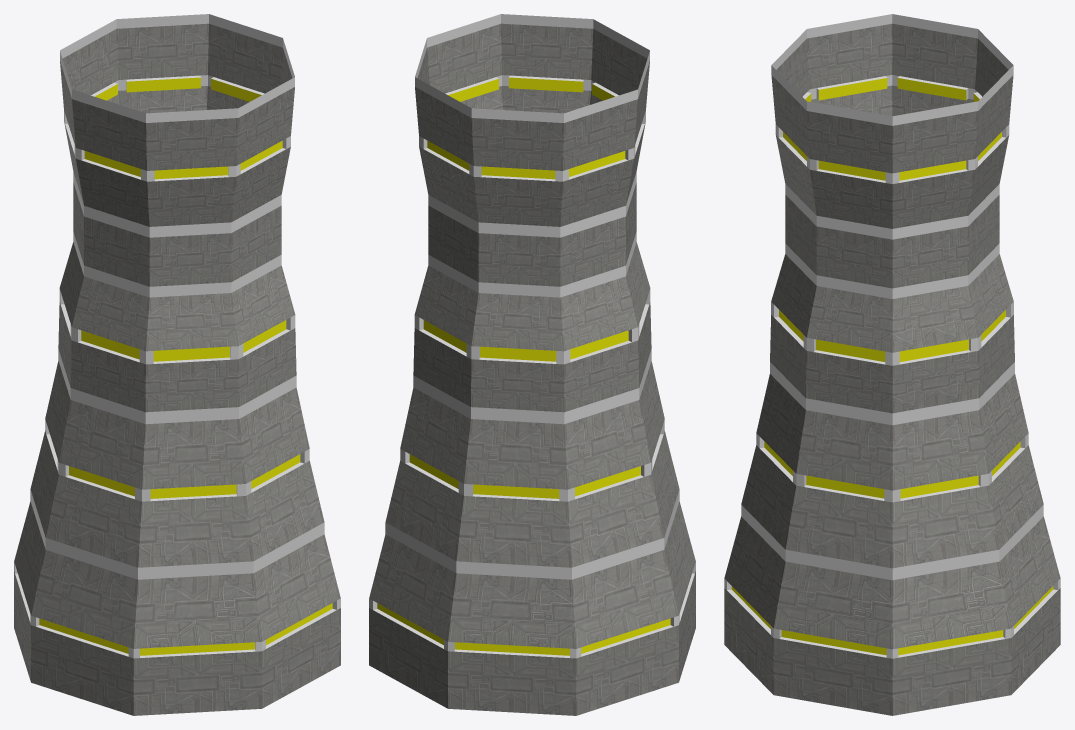
Rendered from SpaceBaseTower.fbx.
The picture shows the model from 3 angles, left to right: view 1: azimuth 30°, elevation 25°; view 2: azimuth 150°, elevation 25°; view 3: azimuth 270°, elevation 25°; orthographic projection.
Parts seen in each view (by area): view 1: SpaceBaseTower; view 2: SpaceBaseTower; view 3: SpaceBaseTower.
Boxes of the visible parts, <box> form: SpaceBaseTower: <box>14,14,340,715</box>; SpaceBaseTower: <box>369,14,695,715</box>; SpaceBaseTower: <box>724,14,1060,715</box>.
Bounding box in the file's own units: 640 × 640 × 1218.
